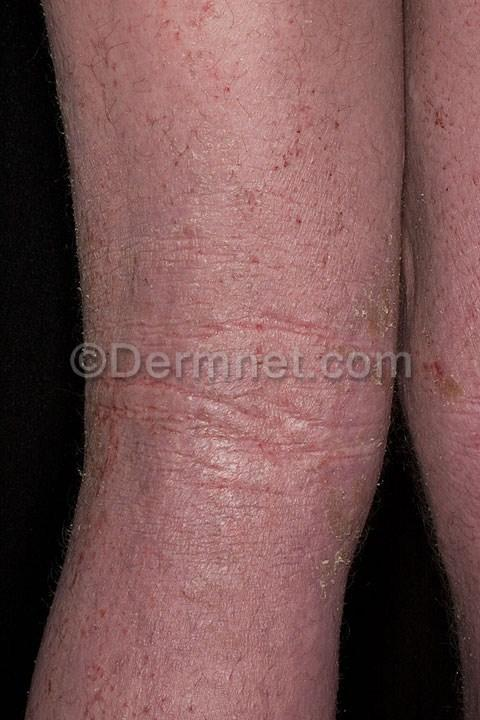Eritema 2: (19, 1, 479, 719)
exudacion 1: (240, 103, 351, 249), (413, 94, 461, 141)
xerosis 2: (18, 0, 120, 719), (312, 460, 385, 620), (347, 263, 400, 386)
